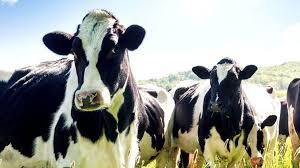cow: (0, 8, 146, 168), (169, 58, 257, 168)
